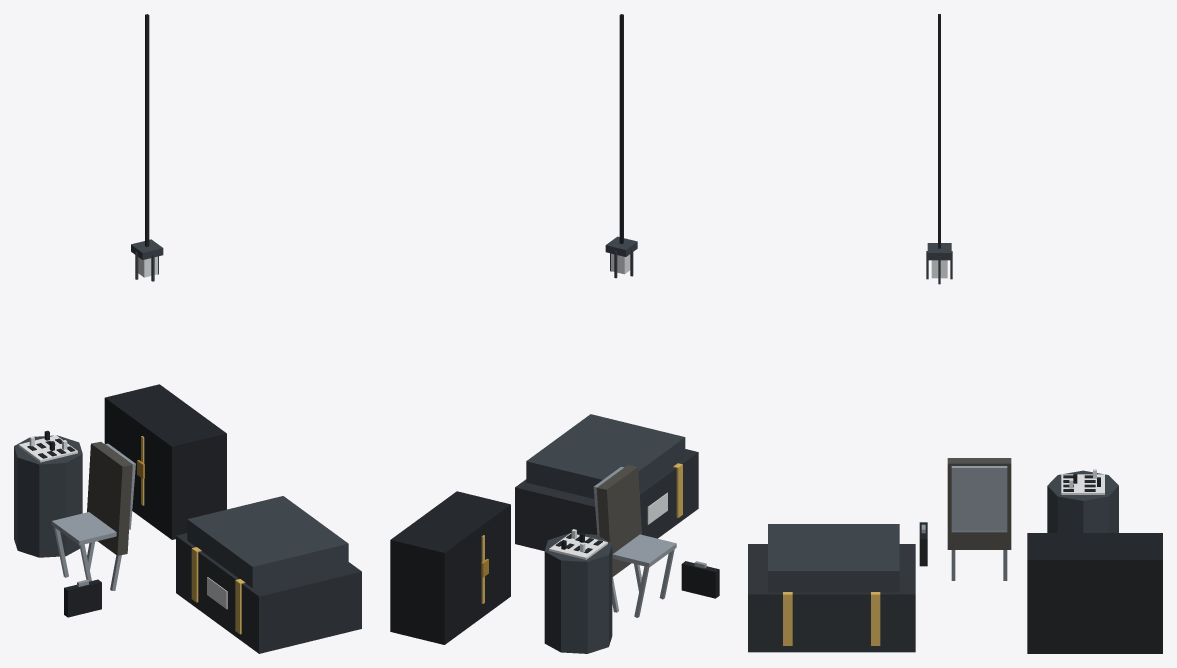
File: prop_vendor_restricted.fbx
3 views of the same model, side by side, from view 1: azimuth 30°, elevation 25°; view 2: azimuth 150°, elevation 25°; view 3: azimuth 270°, elevation 25° (orthographic). The views are drawn at different scales.
Visible parts, largest first — view 1: prop_vendor_restricted; view 2: prop_vendor_restricted; view 3: prop_vendor_restricted.
Boxes of the visible parts, x1,y1,x2,y2 form: prop_vendor_restricted: (14,14,361,653); prop_vendor_restricted: (390,14,719,653); prop_vendor_restricted: (748,14,1162,653).
Bounding box in the file's own units: 620 × 1601 × 1040.
